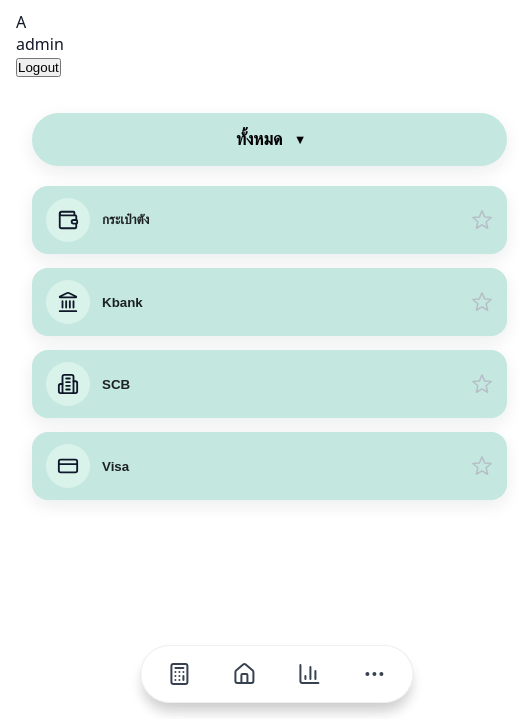
Test: AccountSelect Page › Filter › เปิด/ปิด dropdown filter
Click the button with class "filter__button" at (270, 140), box [32,113,507,166]
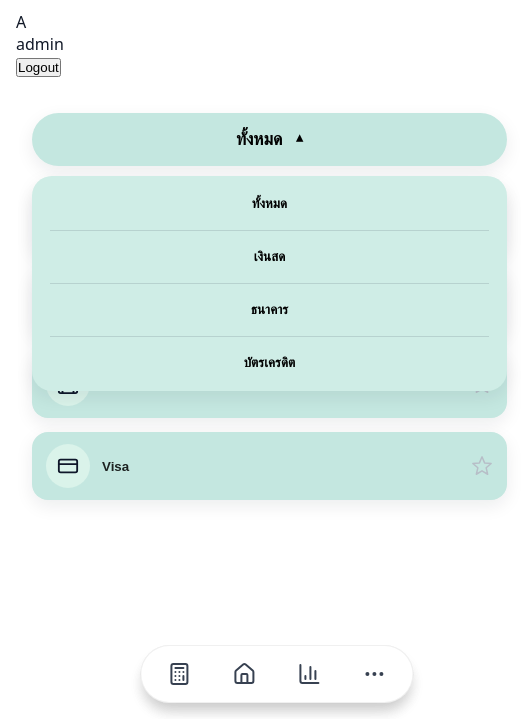
Check: the list with class "filter__menu" is shown, box [32,176,507,391]
Click the button with class "filter__button" at (270, 140), box [32,113,507,166]
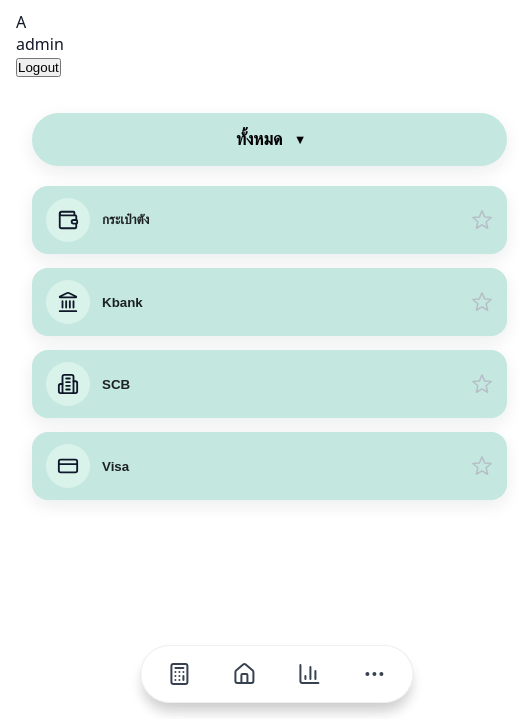
Check: the list with class "filter__menu" is gone
